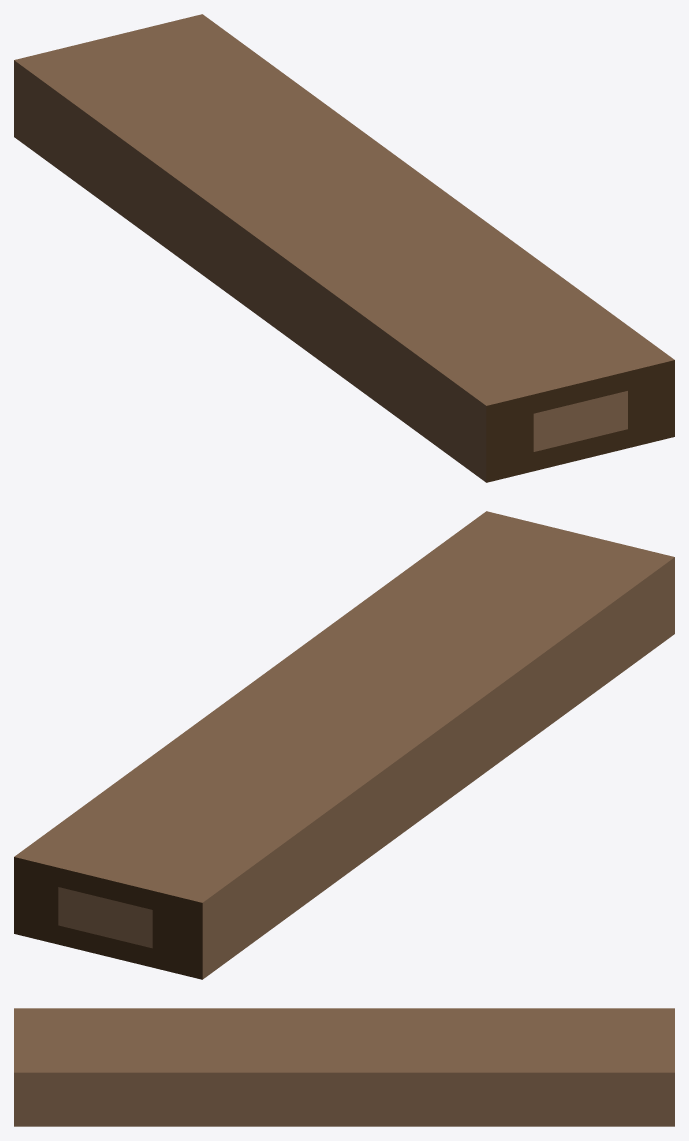
File: Tronco_plataforma.fbx
3 views of the same model, one above another, from view 1: azimuth 30°, elevation 25°; view 2: azimuth 150°, elevation 25°; view 3: azimuth 270°, elevation 25° (orthographic). The views are drawn at different scales.
Visible parts, largest first — view 1: pCube4; view 2: pCube4; view 3: pCube4.
Part boxes in pixels (<box>): pCube4: <box>14,14,674,482</box>; pCube4: <box>14,511,674,979</box>; pCube4: <box>14,1008,674,1126</box>.
Bounding box in the file's own units: 2.83 × 1.1 × 12.3.
